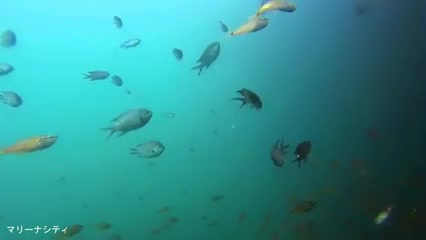mezina: (97, 105, 158, 141), (192, 37, 226, 78)
smallfish: (81, 65, 110, 82)
